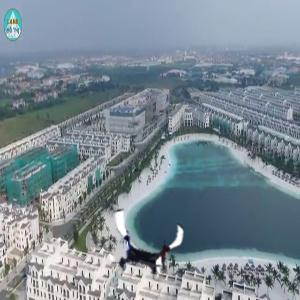drone: (107, 204, 189, 286)
